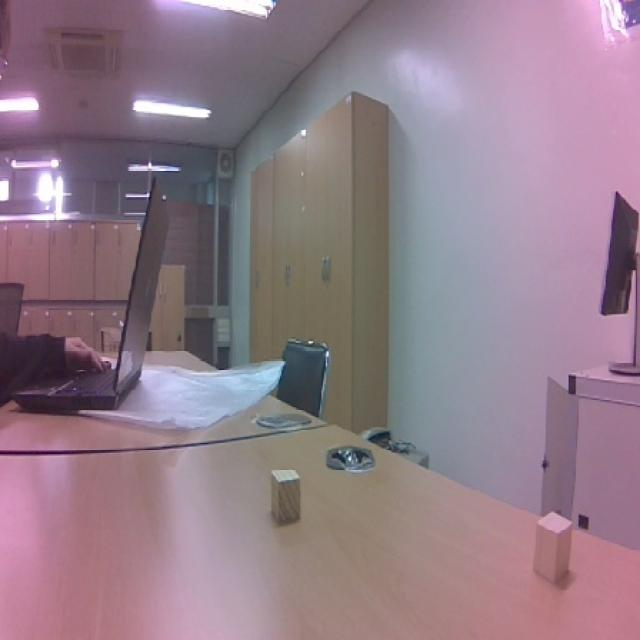obstacle: (527, 508, 582, 590), (257, 467, 305, 533)
